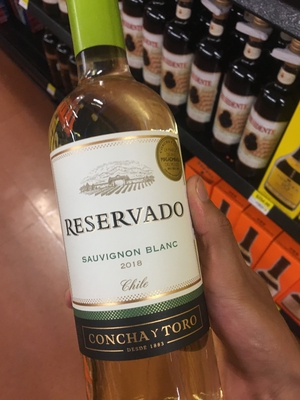reservado sauvignon blanc: (45, 12, 212, 399)
